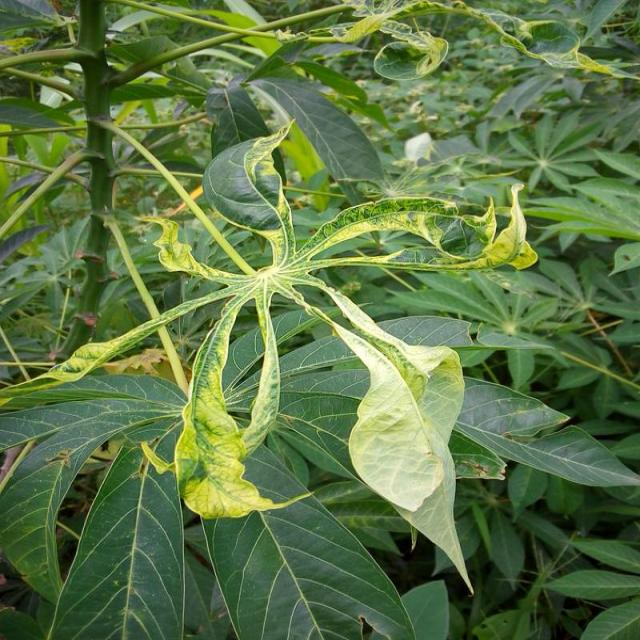cassava leaf: (308, 283, 476, 595)
